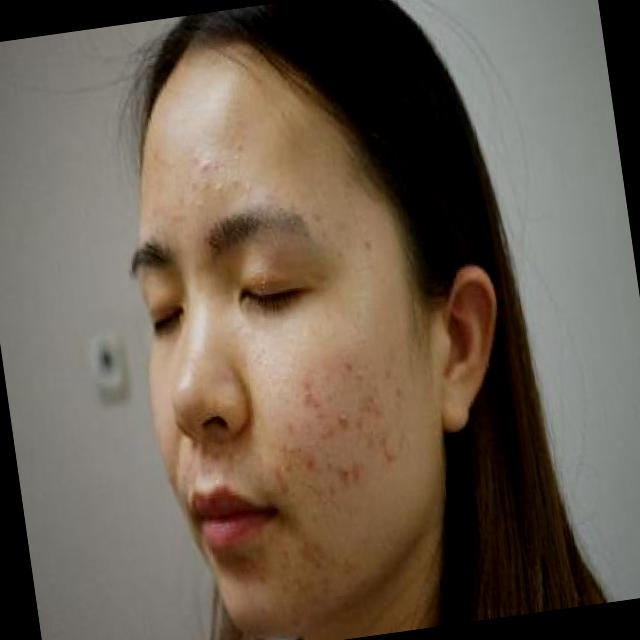acne: (292, 365, 320, 414), (269, 463, 293, 497), (374, 441, 400, 472), (338, 352, 361, 378)
nodules: (300, 446, 324, 476), (332, 405, 353, 437), (224, 170, 247, 194), (334, 461, 354, 488), (195, 152, 215, 178), (212, 182, 225, 196)
